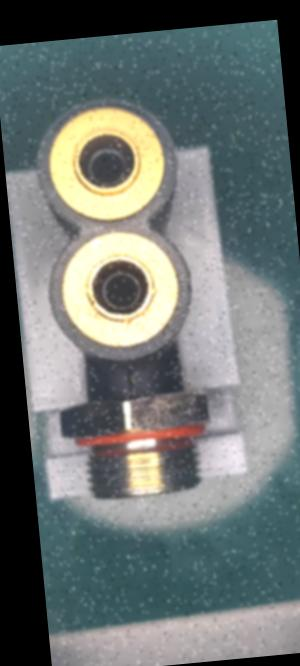craze: (121, 364, 139, 399)
